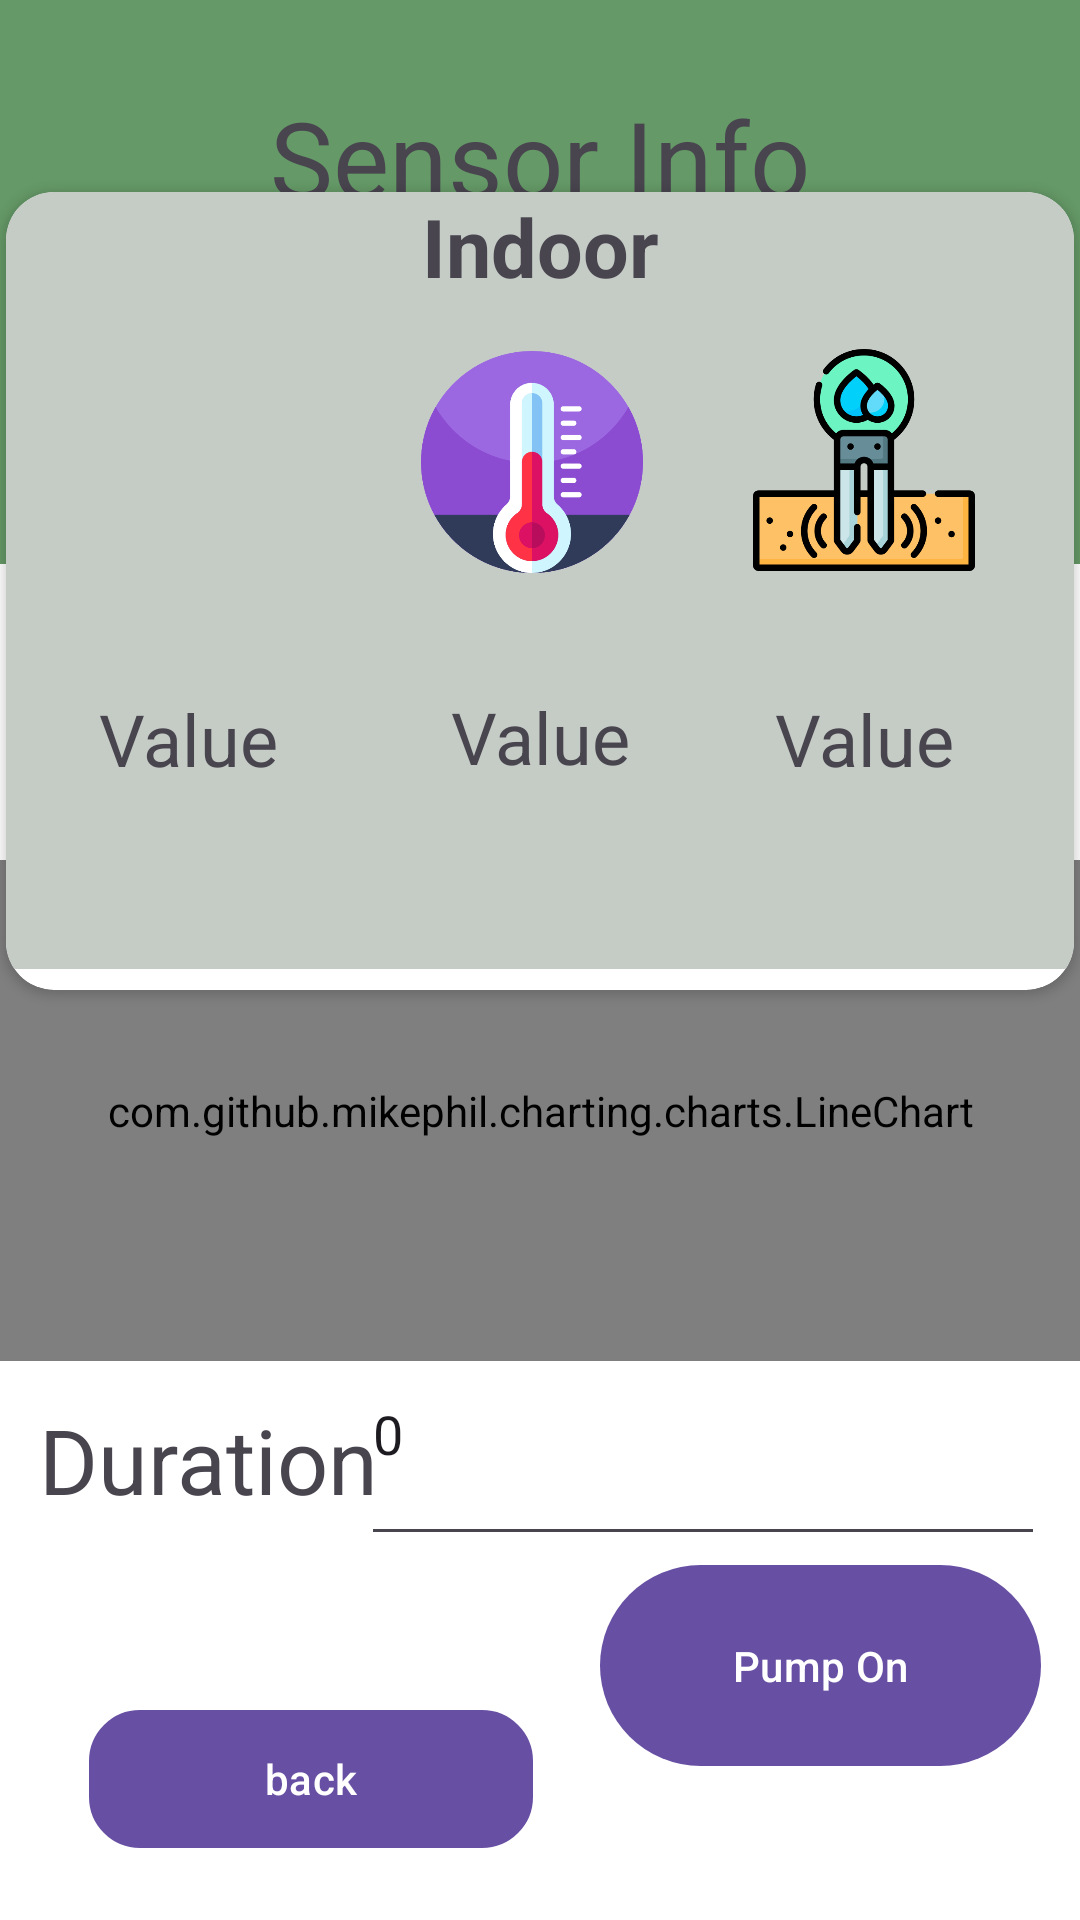

Icon bounding boxes for this 1080 × 1920 phone screenshot, format (left=x1, top=y1, right=x2, bottom=y2):
soil: (left=753, top=349, right=975, bottom=571)
tem: (left=421, top=351, right=643, bottom=573)
